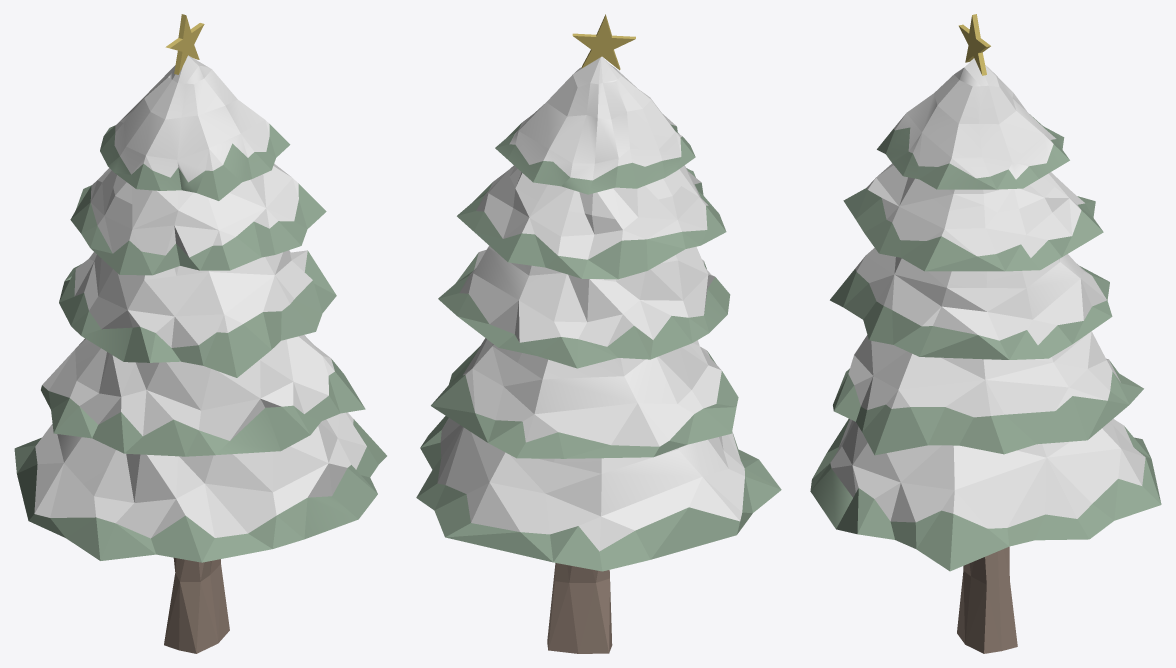
The model's file is Santa__Claus_Snow_tree.fbx.
The picture shows the model from 3 angles, left to right: view 1: azimuth 30°, elevation 25°; view 2: azimuth 150°, elevation 25°; view 3: azimuth 270°, elevation 25°; orthographic projection. The views are drawn at different scales.
Visible parts, largest first — view 1: Santa__Claus_Snow_tree; view 2: Santa__Claus_Snow_tree; view 3: Santa__Claus_Snow_tree.
Boxes of the visible parts, x1,y1,x2,y2 form: Santa__Claus_Snow_tree: (14,14,386,653); Santa__Claus_Snow_tree: (416,14,781,653); Santa__Claus_Snow_tree: (810,14,1161,653).
Bounding box in the file's own units: 193 × 349 × 180.
